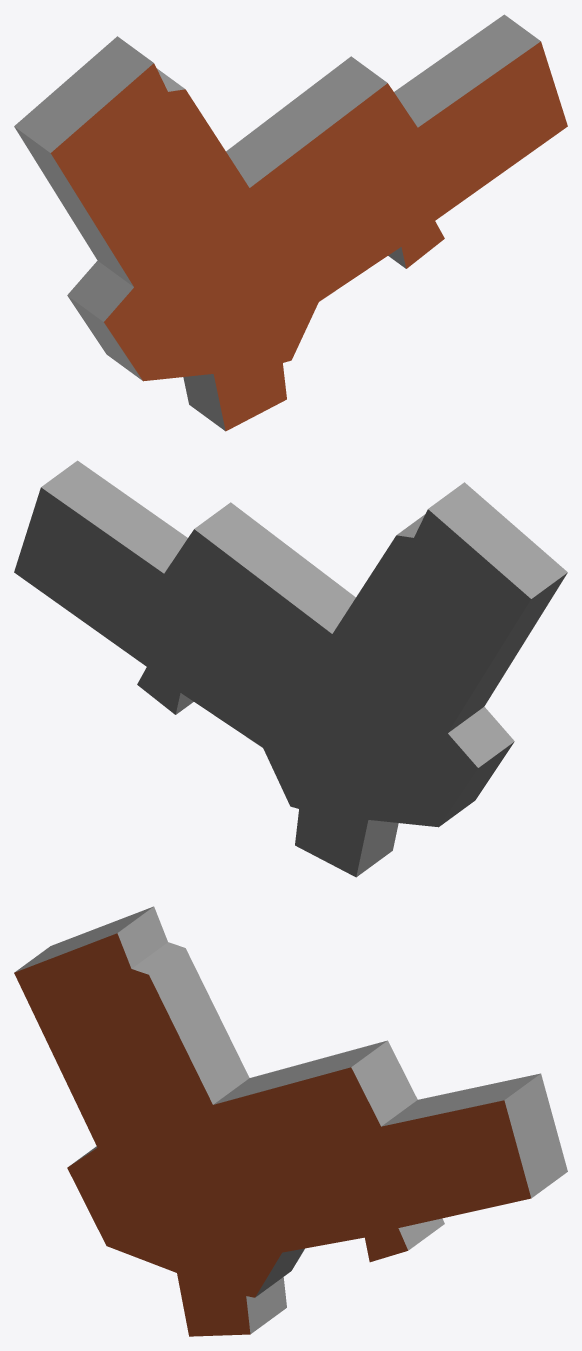
File: construction_2765_assumed_A_Casa_h6m.obj
The picture shows the model from 3 angles, top to bottom: view 1: azimuth 30°, elevation 25°; view 2: azimuth 150°, elevation 25°; view 3: azimuth 330°, elevation 25°; orthographic projection.
Parts seen in each view (by area): view 1: construction_2765_assumed_A_Casa; view 2: construction_2765_assumed_A_Casa; view 3: construction_2765_assumed_A_Casa.
Boxes of the visible parts, box(x1,y1,x2,y2) form: construction_2765_assumed_A_Casa: box(14, 14, 567, 431); construction_2765_assumed_A_Casa: box(14, 460, 567, 877); construction_2765_assumed_A_Casa: box(14, 906, 567, 1336).
Size of the model in its own units: 48.9 by 34.87 by 6.
